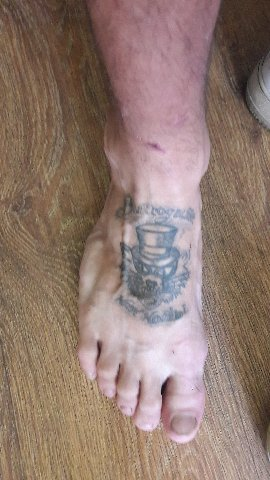tatu3_bukva: (108, 298, 190, 331), (115, 193, 198, 224)
tatu8_kot: (118, 223, 193, 306)
